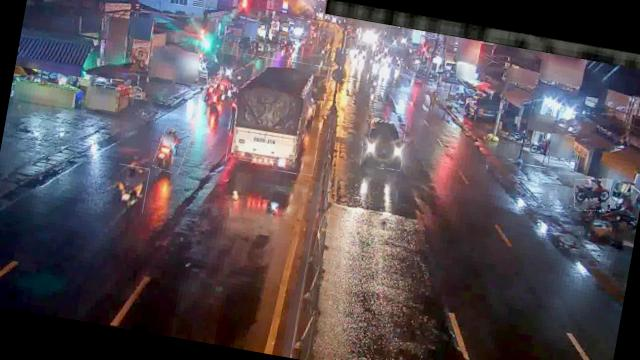Bike: (112, 164, 150, 213), (154, 126, 190, 174), (571, 174, 614, 214), (200, 78, 217, 104), (210, 82, 224, 112)
Car: (358, 118, 408, 171)
Truck: (224, 52, 330, 176)
